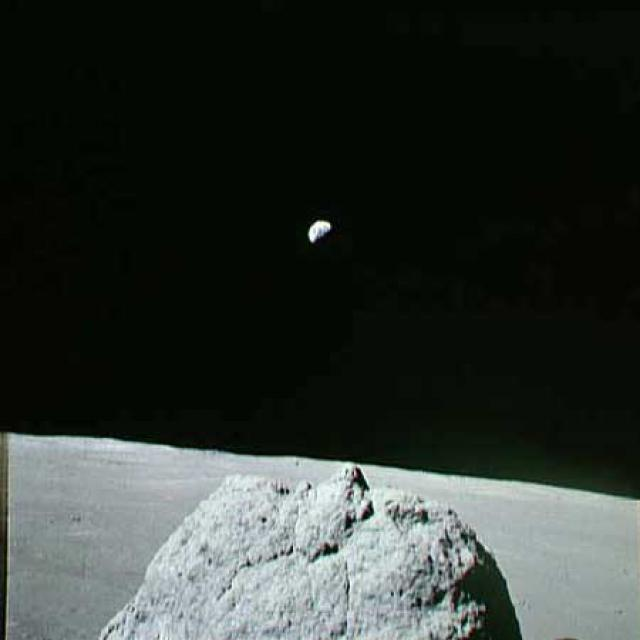rock: (90, 458, 526, 639)
